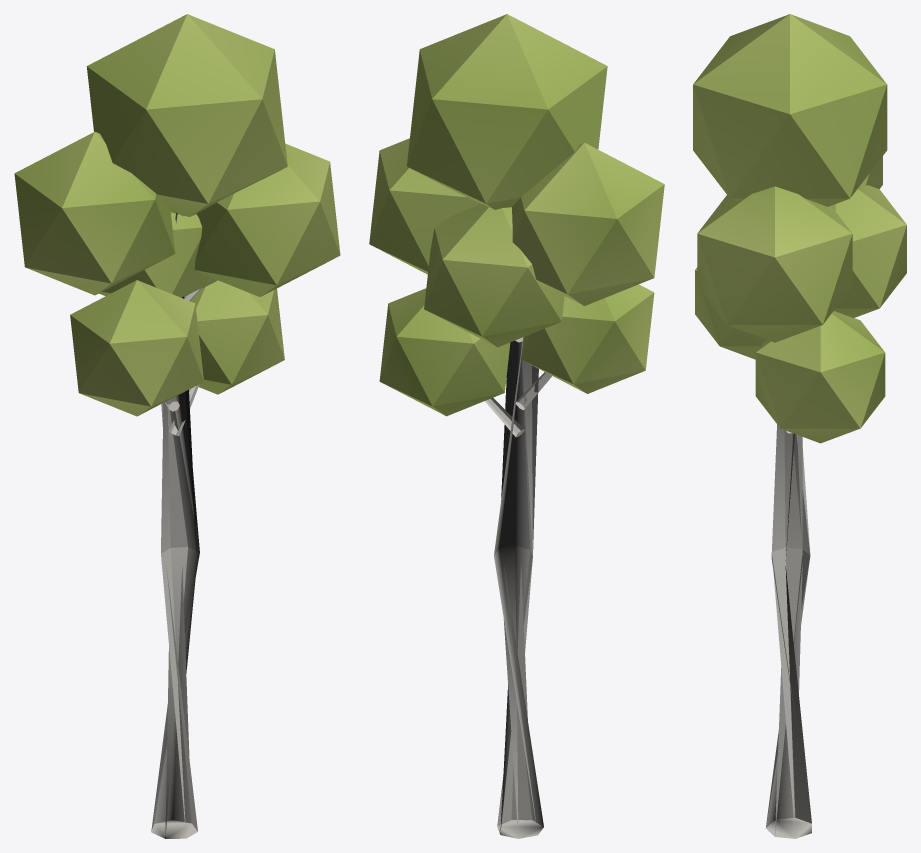
File: forest_birch.glb
The picture shows the model from 3 angles, left to right: view 1: azimuth 30°, elevation 25°; view 2: azimuth 150°, elevation 25°; view 3: azimuth 270°, elevation 25°; orthographic projection.
Parts seen in each view (by area): view 1: Birch; view 2: Birch; view 3: Birch.
Part boxes in pixels (x1,y1,x2,y2): Birch: (14, 14, 340, 838); Birch: (369, 14, 664, 838); Birch: (693, 14, 906, 838).
Bounding box in the file's own units: 2.22 × 5.95 × 1.41.
